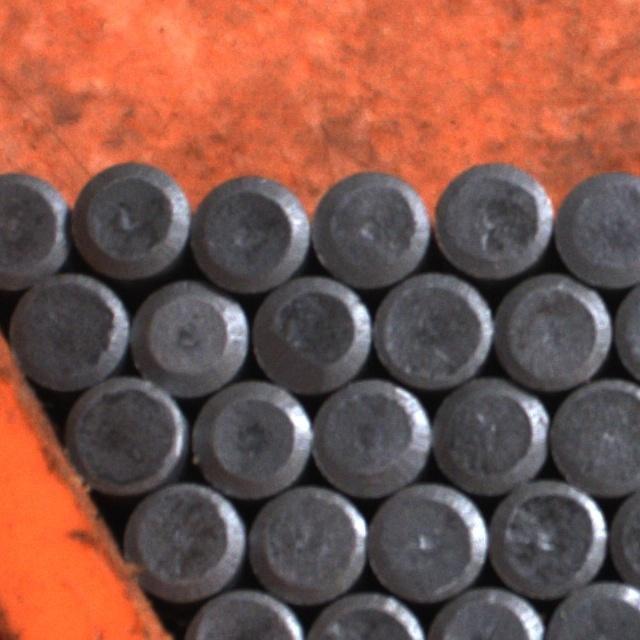tool: (429, 151, 555, 279), (69, 152, 193, 280), (188, 168, 311, 294), (308, 162, 430, 288), (247, 274, 372, 396), (63, 374, 185, 497), (125, 478, 246, 602), (311, 375, 432, 498), (192, 377, 312, 501), (8, 270, 128, 394), (373, 268, 493, 392), (247, 481, 368, 603), (367, 479, 486, 603), (493, 270, 612, 394), (130, 276, 251, 397), (487, 478, 606, 598), (430, 374, 548, 494), (545, 376, 640, 499), (550, 162, 640, 290), (0, 166, 70, 291), (188, 584, 306, 640), (427, 584, 545, 640), (302, 589, 426, 640)
